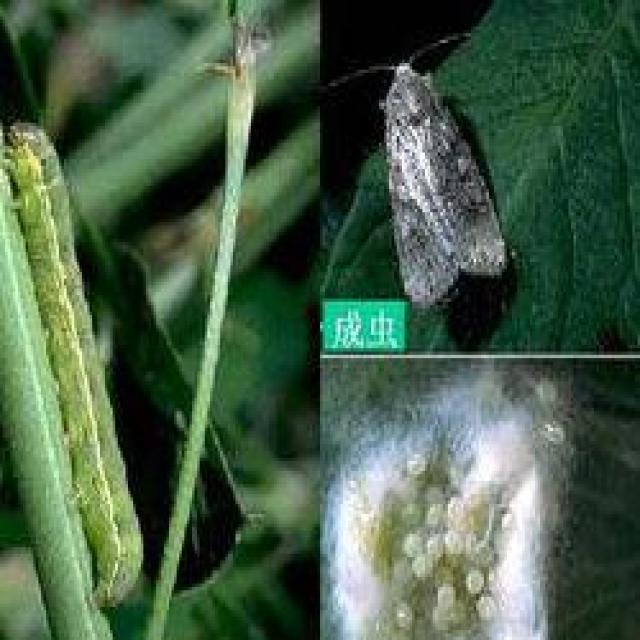BeetArmyWorm-Adult-: (356, 40, 519, 313)
BeetArmyWorm-Larva-: (1, 115, 150, 614)
